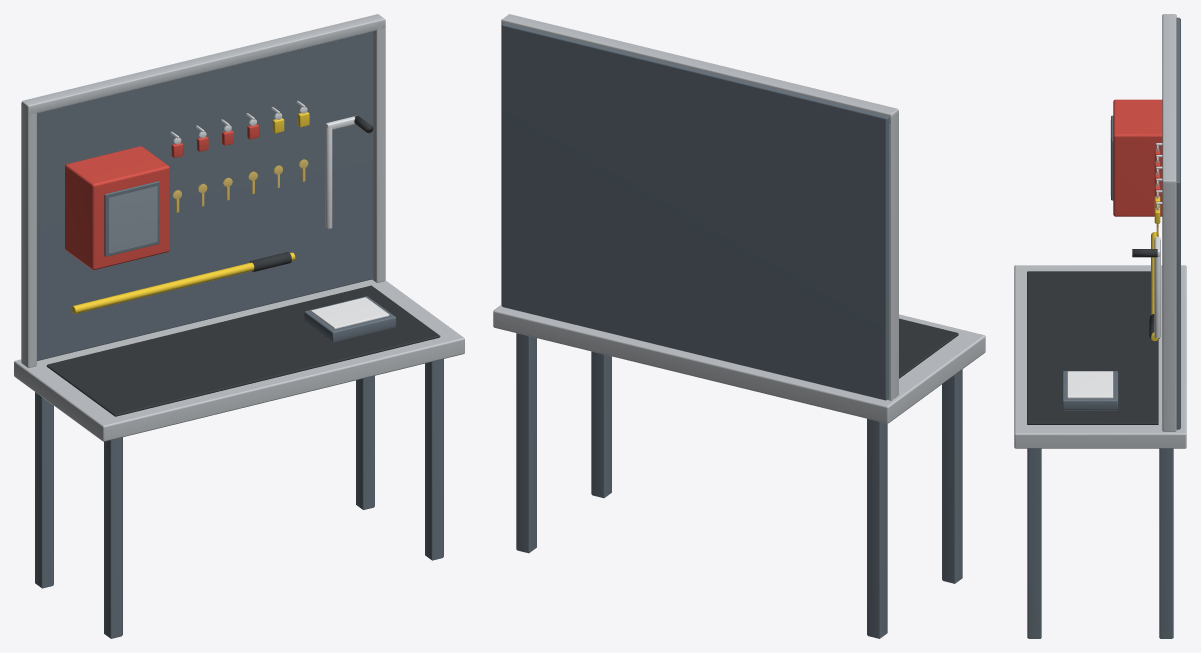
File: key-board.glb
3 renders of one model, left to right at view 1: azimuth 30°, elevation 25°; view 2: azimuth 150°, elevation 25°; view 3: azimuth 270°, elevation 25°, orthographic. The views are drawn at different scales.
Parts seen in each view (by area): view 1: KeyBoardAssembly; view 2: KeyBoardAssembly; view 3: KeyBoardAssembly.
Boxes of the visible parts, x1=… form: KeyBoardAssembly: x1=14, y1=14, x2=464, y2=638; KeyBoardAssembly: x1=493, y1=14, x2=985, y2=638; KeyBoardAssembly: x1=1014, y1=14, x2=1186, y2=638.
Size of the model in its own units: 1.58 by 2.02 by 0.68.
